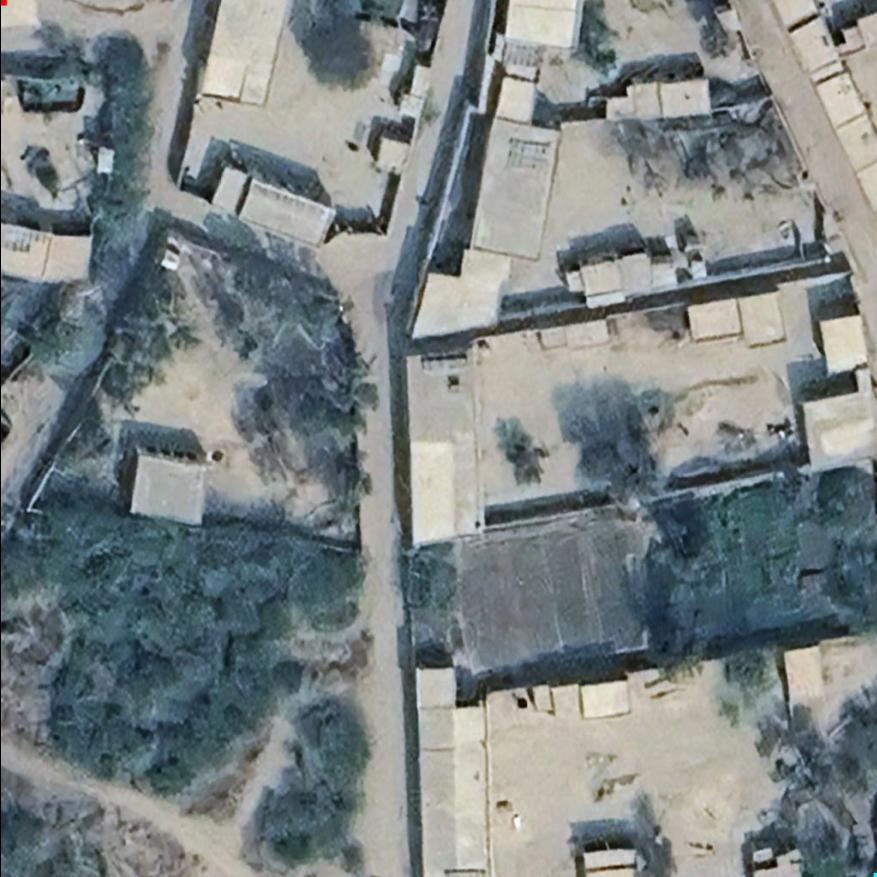Solarpanel: (500, 132, 558, 180), (0, 222, 51, 261), (496, 38, 548, 76)
